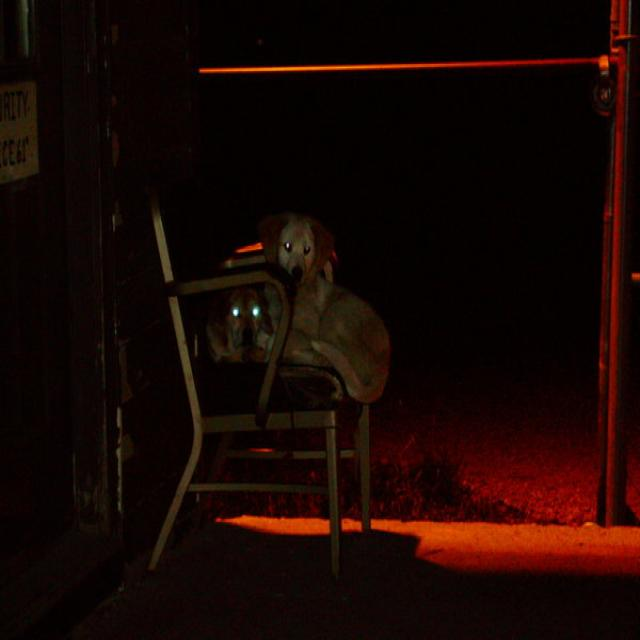dog: (257, 197, 404, 416)
